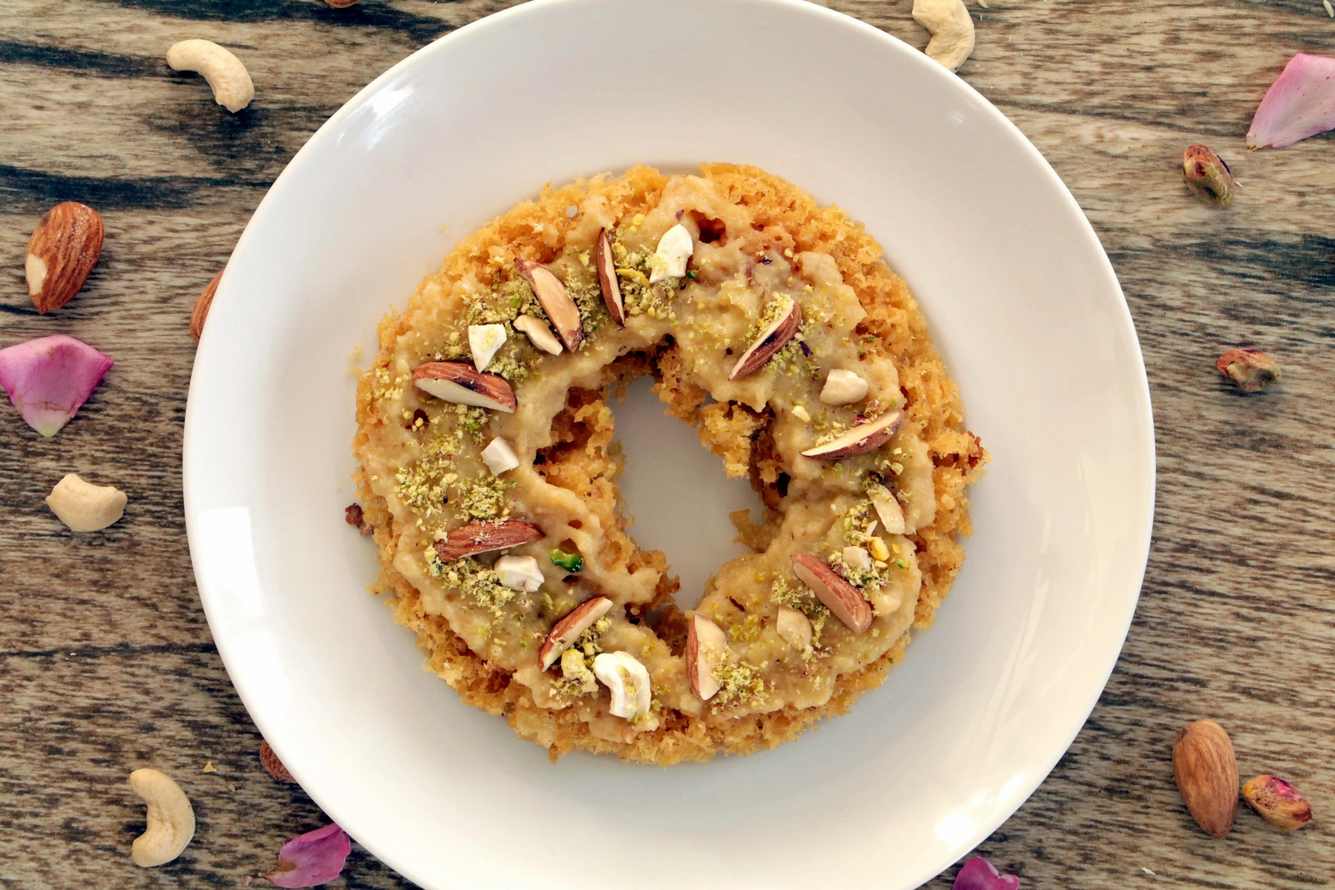Ghevar: (343, 161, 986, 770)
